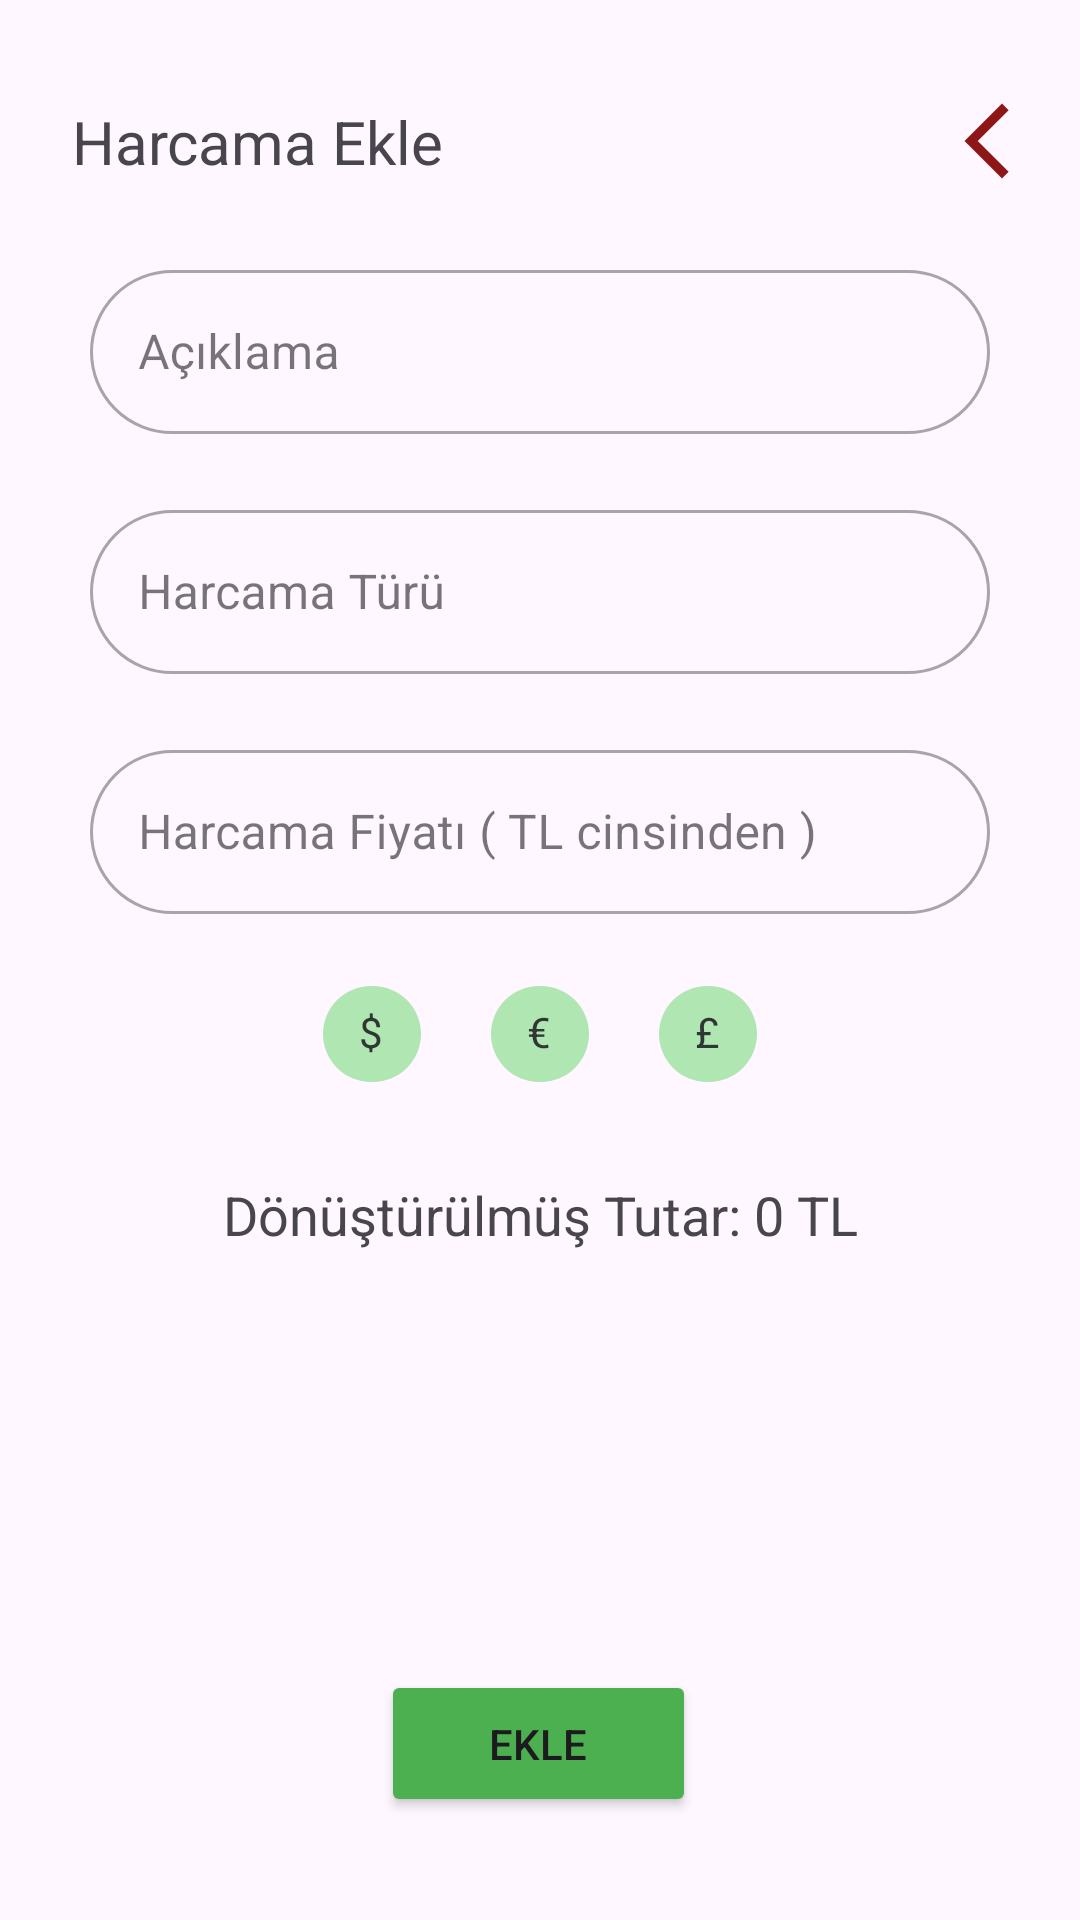

Icon bounding boxes for this 1080x1920 phone screenshot, format (x1, y1, x2, y2):
back: (964, 103, 1009, 179)
